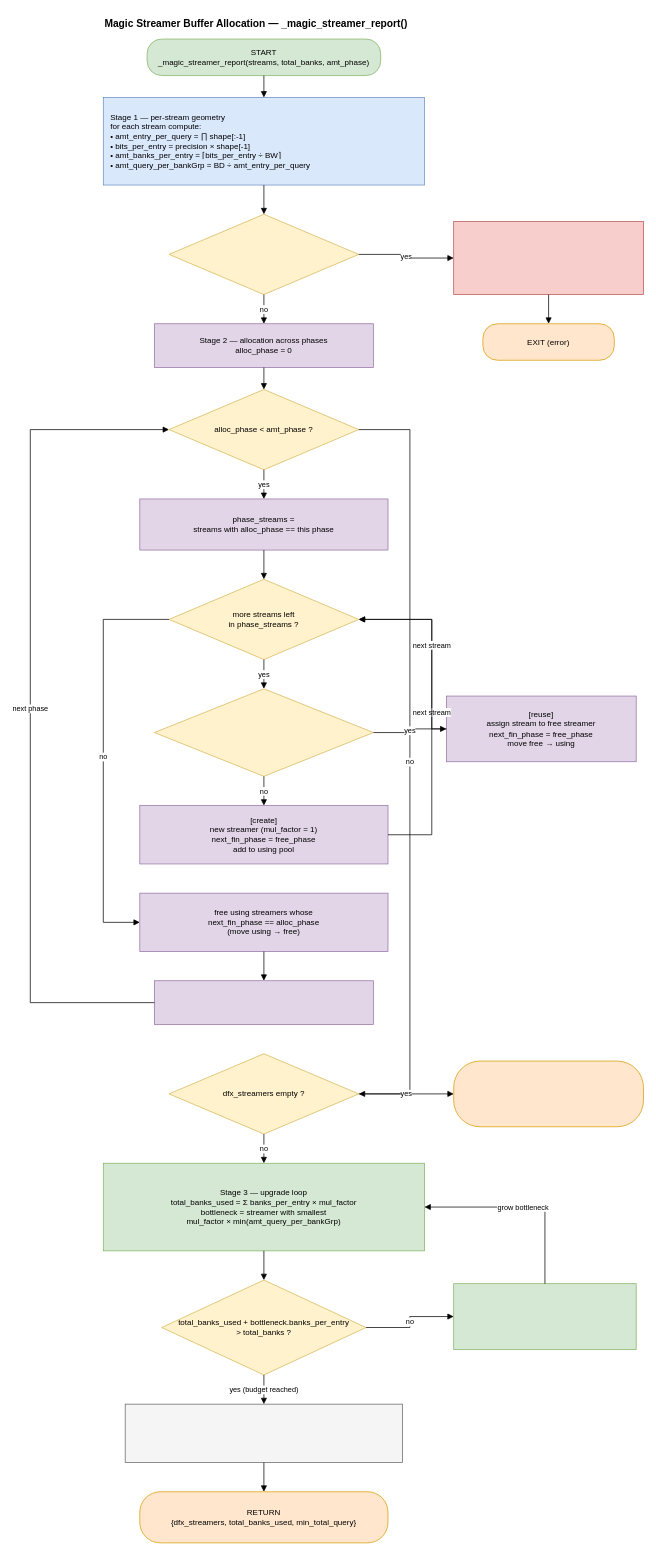
Some shapes in this 656 by 1556 pixel diagram are drawn without their labels. The centre of each missing label's shape, as x and y in pixels:
"[upgrade] bottleneck.mul_factor += 1" goes at point (544, 1316).
"alloc_phase += 1" goes at point (263, 1002).
"amt_query_per_bankGrp == 0 ? (one query bigger than a bank group)" goes at point (263, 254).
"free streamer with same amt_banks_per_entry AND region ?" goes at point (263, 732).
"raise ValueError increase BANK_DEPTH or split the stream" goes at point (548, 258).
"RETURN {dfx_streamers, total_banks_used: 0}" goes at point (548, 1093).
"Stage 4 — report min_total_query = min(mul_factor × amt_query_per_bankGrp)" goes at point (263, 1433).
